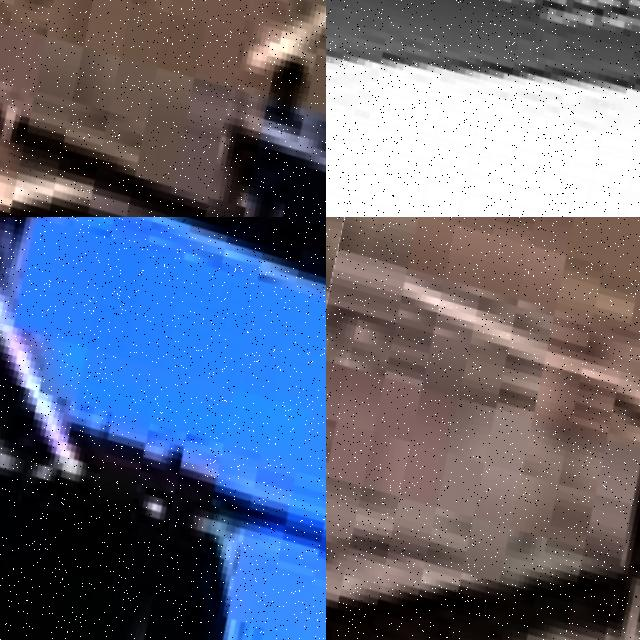0: (0, 217, 326, 640), (326, 217, 640, 640), (0, 0, 326, 217)
drone: (326, 0, 640, 217)
